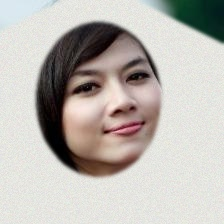Mukena: (0, 25, 210, 224)
